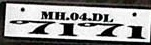character: (95, 21, 124, 38), (29, 19, 55, 35), (125, 24, 146, 40), (56, 22, 78, 37), (41, 10, 53, 20), (54, 11, 65, 21), (102, 13, 113, 23), (91, 12, 103, 21), (69, 12, 78, 21), (78, 12, 87, 20)
